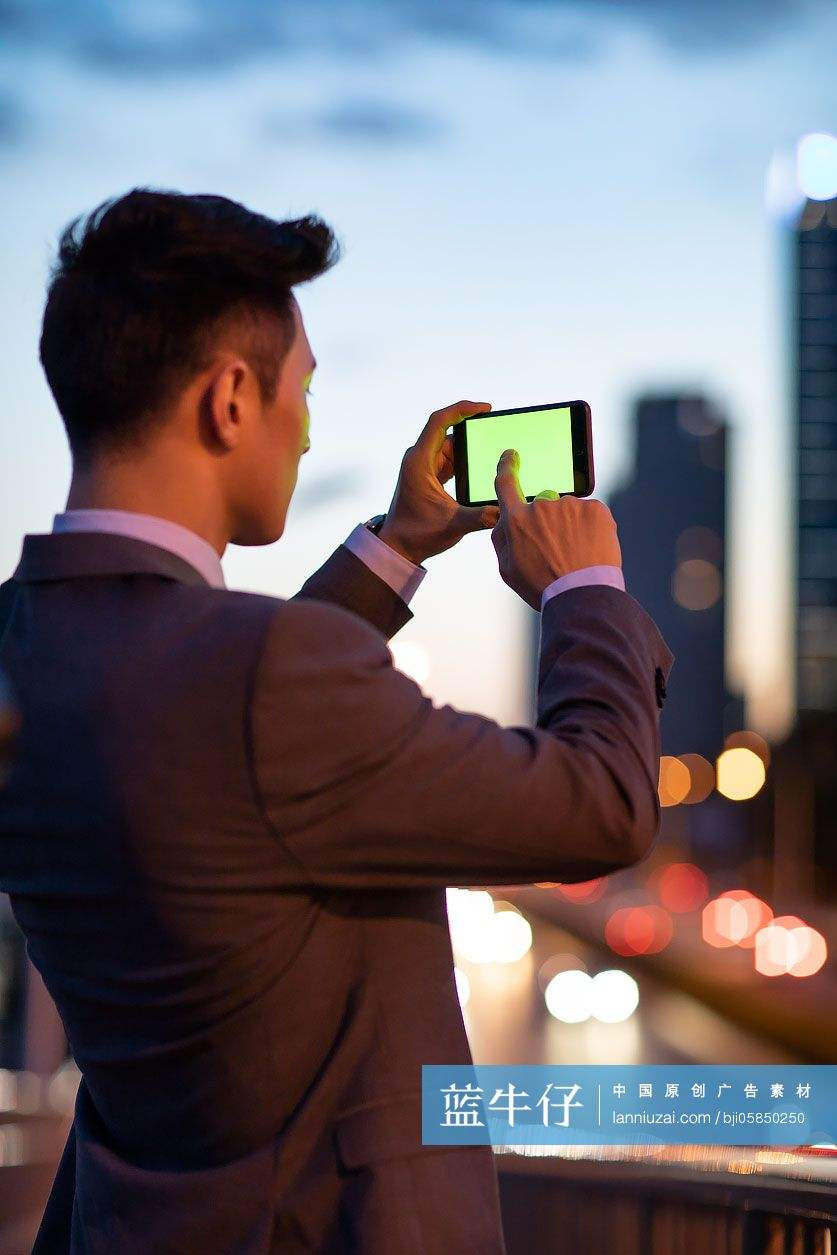taking photos: (385, 392, 624, 604)
